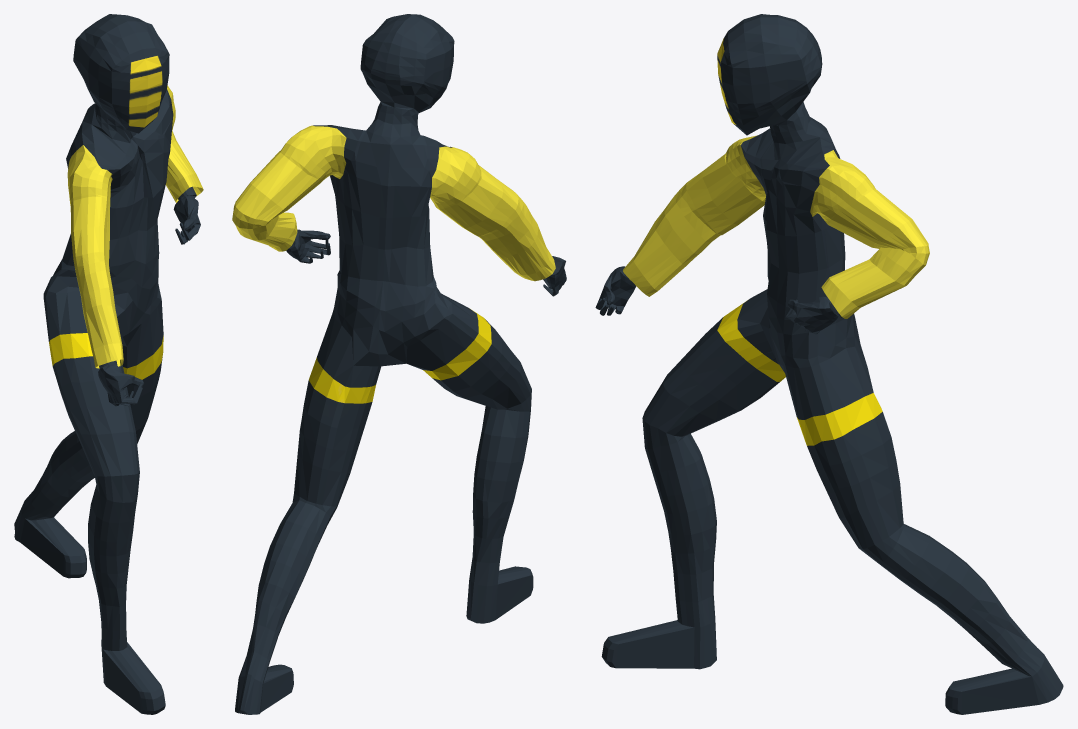
The model's file is Sentry_Stun_000004.obj.
3 views of the same model, side by side, from view 1: azimuth 30°, elevation 25°; view 2: azimuth 150°, elevation 25°; view 3: azimuth 270°, elevation 25° (orthographic). The views are drawn at different scales.
Parts seen in each view (by area): view 1: Cube; view 2: Cube; view 3: Cube.
Part boxes in pixels (bbox=[...]): Cube: bbox=[14, 14, 203, 714]; Cube: bbox=[232, 14, 566, 714]; Cube: bbox=[595, 14, 1063, 714].
Size of the model in its own units: 1.2 by 3.57 by 2.26.
